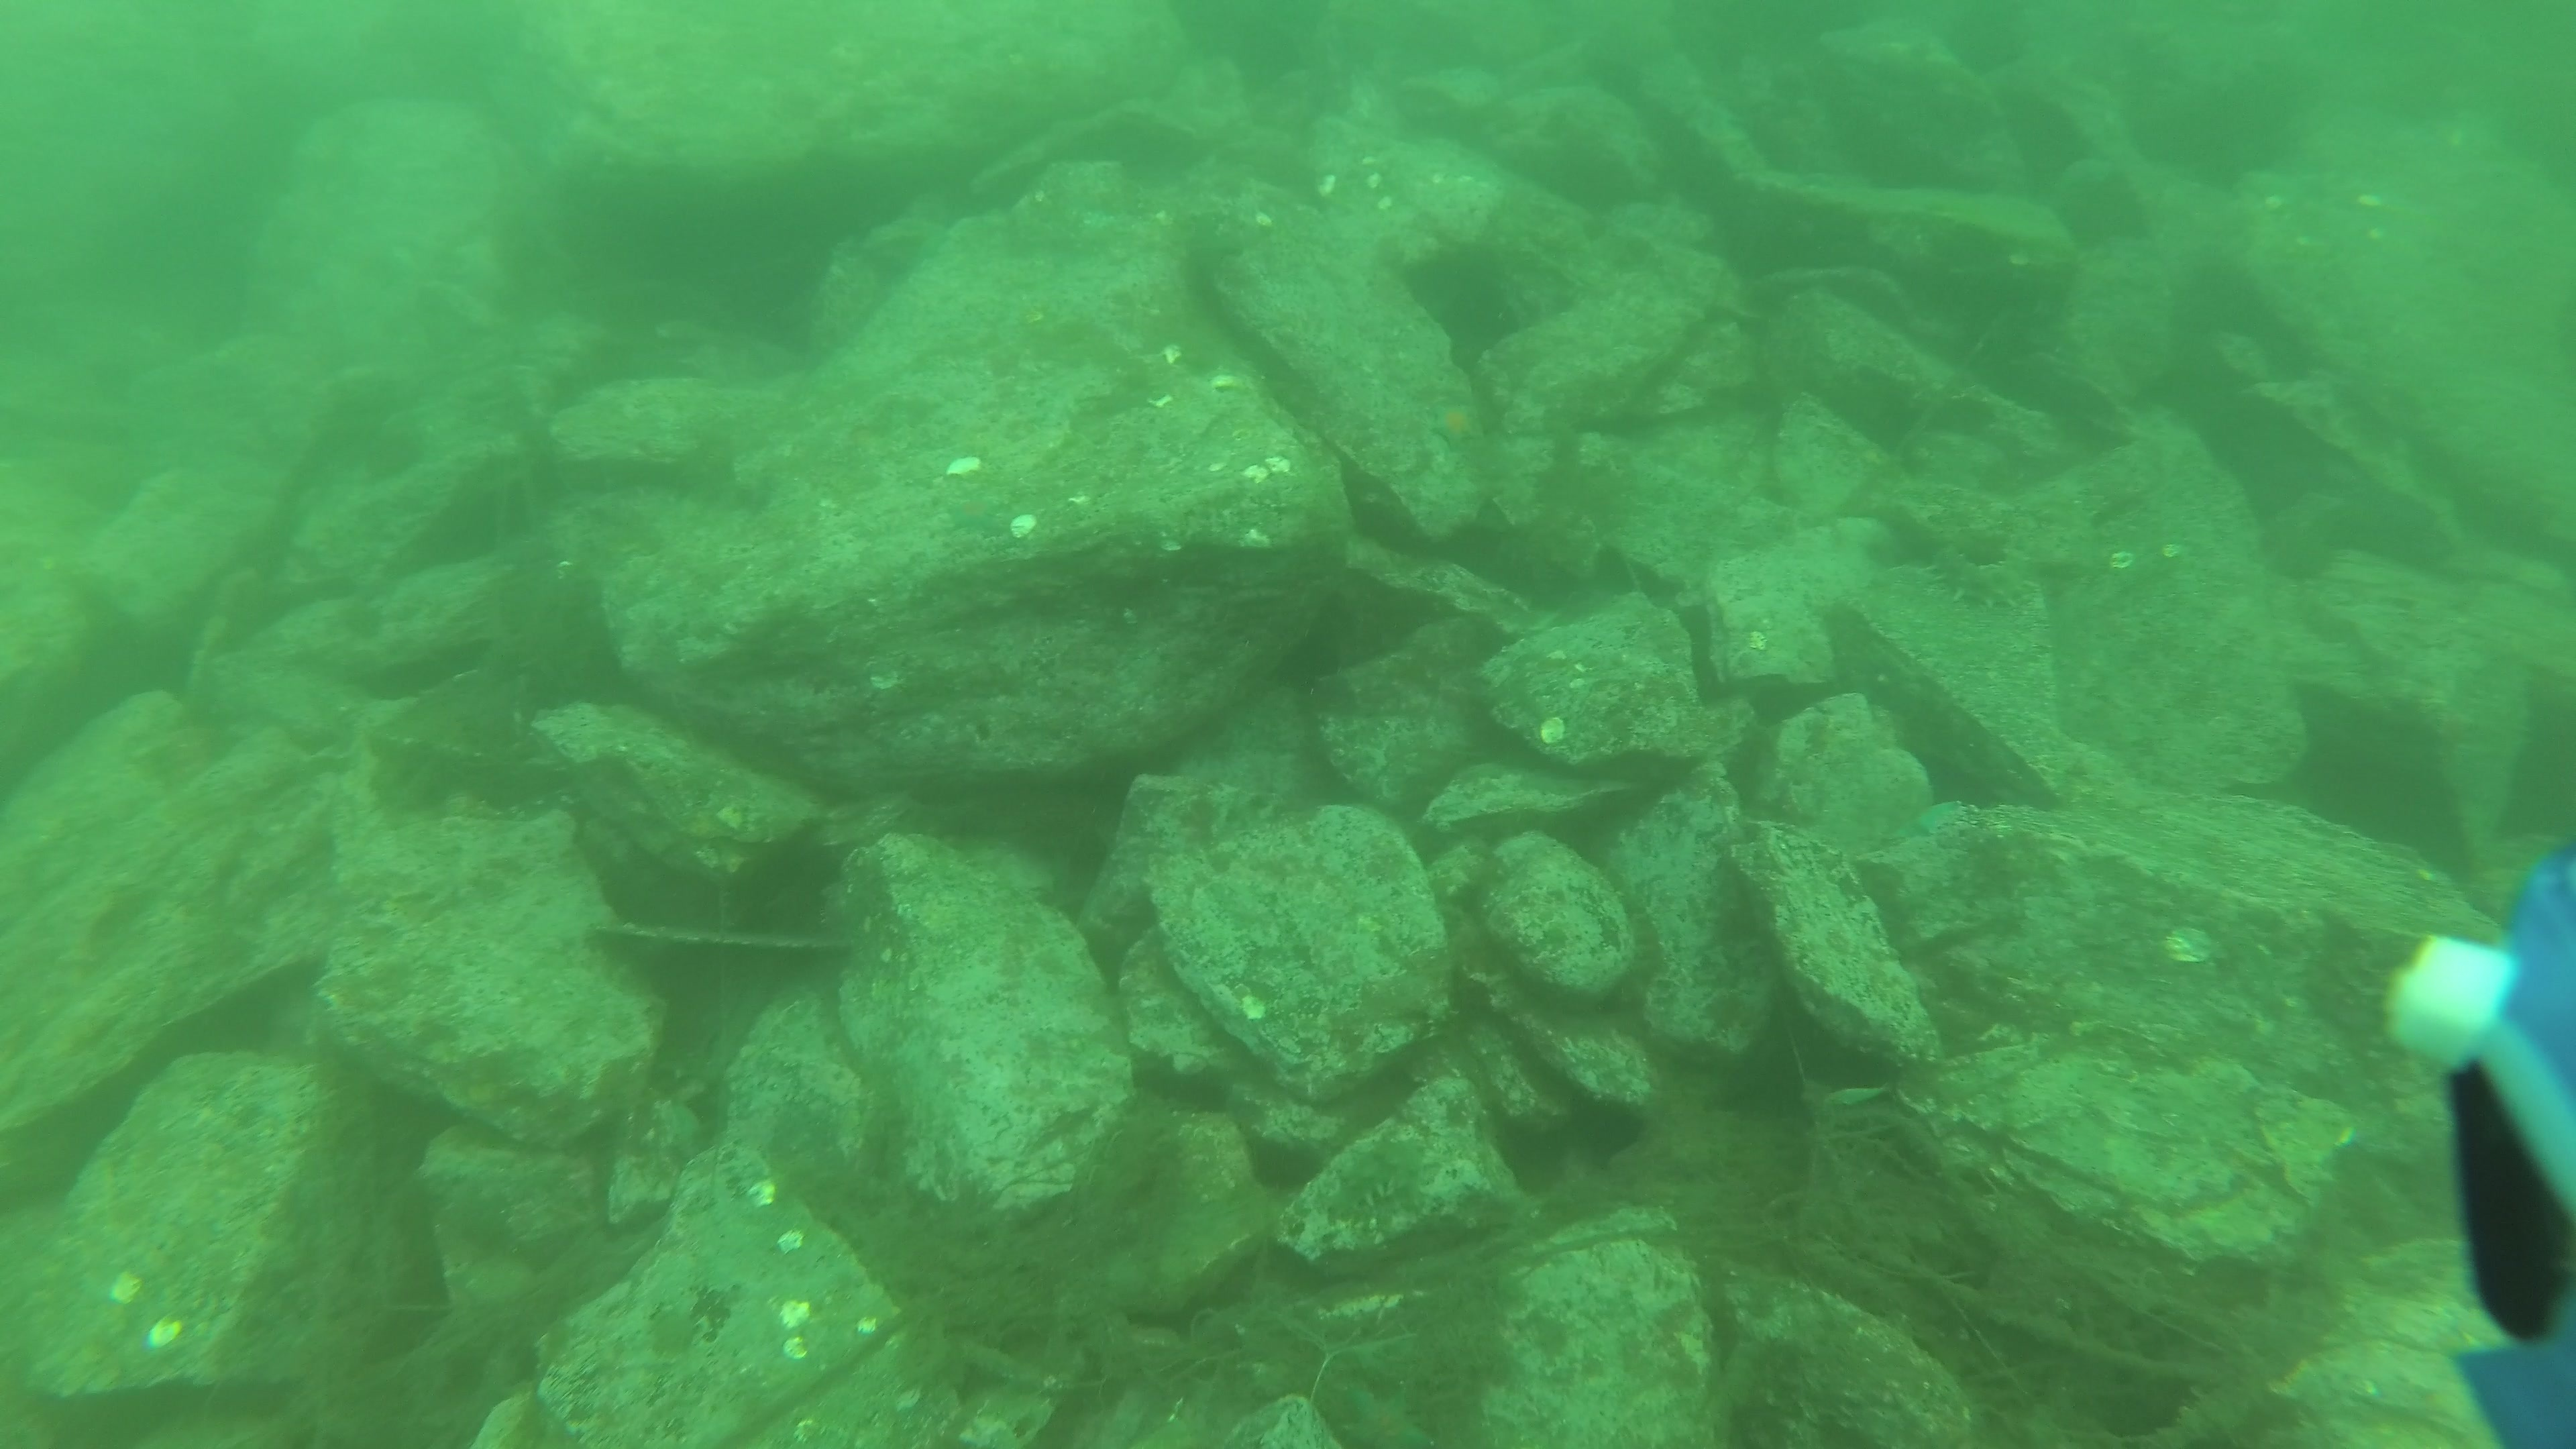holothurian: (1928, 545, 2020, 614)
starfish: (1426, 391, 1491, 456)
